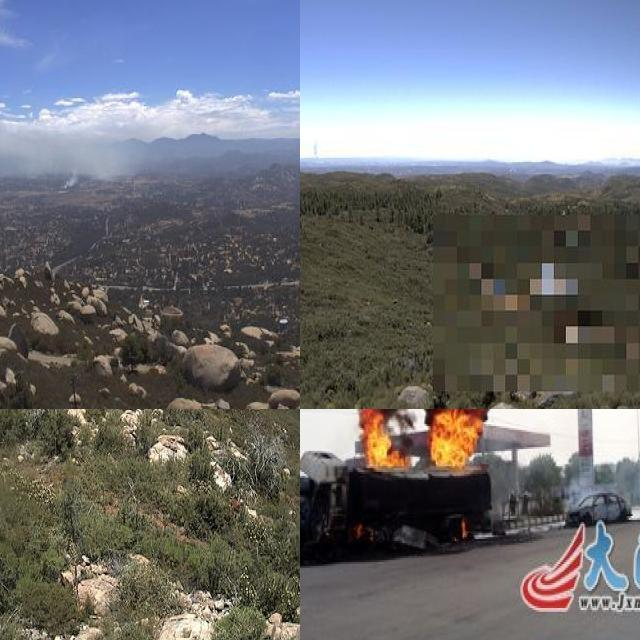fire: (429, 409, 486, 474), (358, 409, 402, 479)
smoke: (0, 122, 142, 186), (309, 142, 323, 158)
